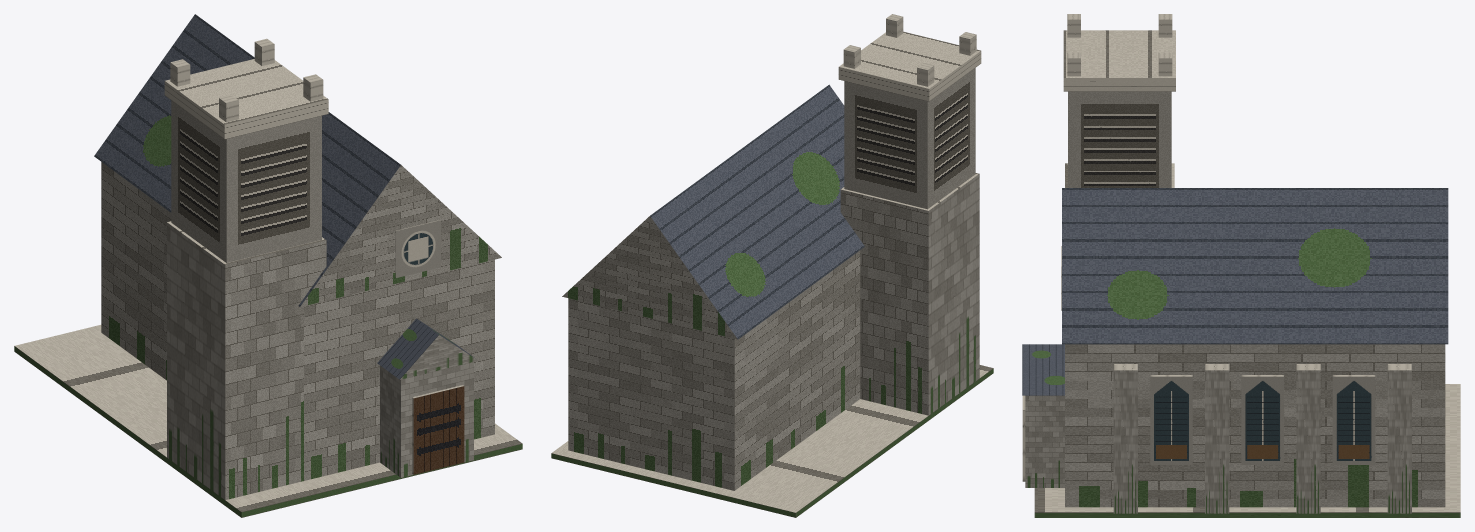
File: building_derelict_church.glb
3 renders of one model, left to right at view 1: azimuth 30°, elevation 25°; view 2: azimuth 150°, elevation 25°; view 3: azimuth 270°, elevation 25°, orthographic. The views are drawn at different scales.
Parts seen in each view (by area): view 1: Building_Derelict_Church; view 2: Building_Derelict_Church; view 3: Building_Derelict_Church.
Part boxes in pixels (<box>): Building_Derelict_Church: <box>14,14,522,517</box>; Building_Derelict_Church: <box>551,14,993,517</box>; Building_Derelict_Church: <box>1022,14,1460,517</box>.
Bounding box in the file's own units: 10.15 × 13.65 × 14.4.
1 material, 1 textured.
